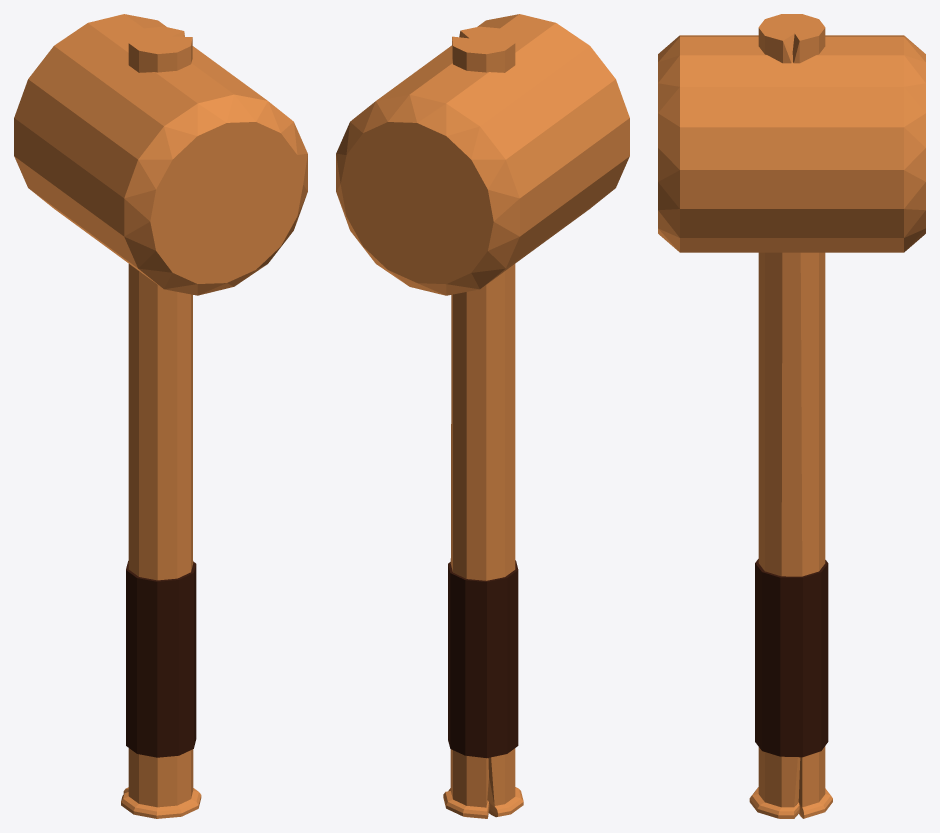
File: palu.fbx
3 renders of one model, left to right at view 1: azimuth 30°, elevation 25°; view 2: azimuth 150°, elevation 25°; view 3: azimuth 270°, elevation 25°, orthographic.
Visible parts, largest first — view 1: Cylinder.001; view 2: Cylinder.001; view 3: Cylinder.001.
Part boxes in pixels (<box>): Cylinder.001: <box>14,14,307,818</box>; Cylinder.001: <box>336,14,629,818</box>; Cylinder.001: <box>658,14,925,818</box>.
Bounding box in the file's own units: 32.25 × 128 × 40.
